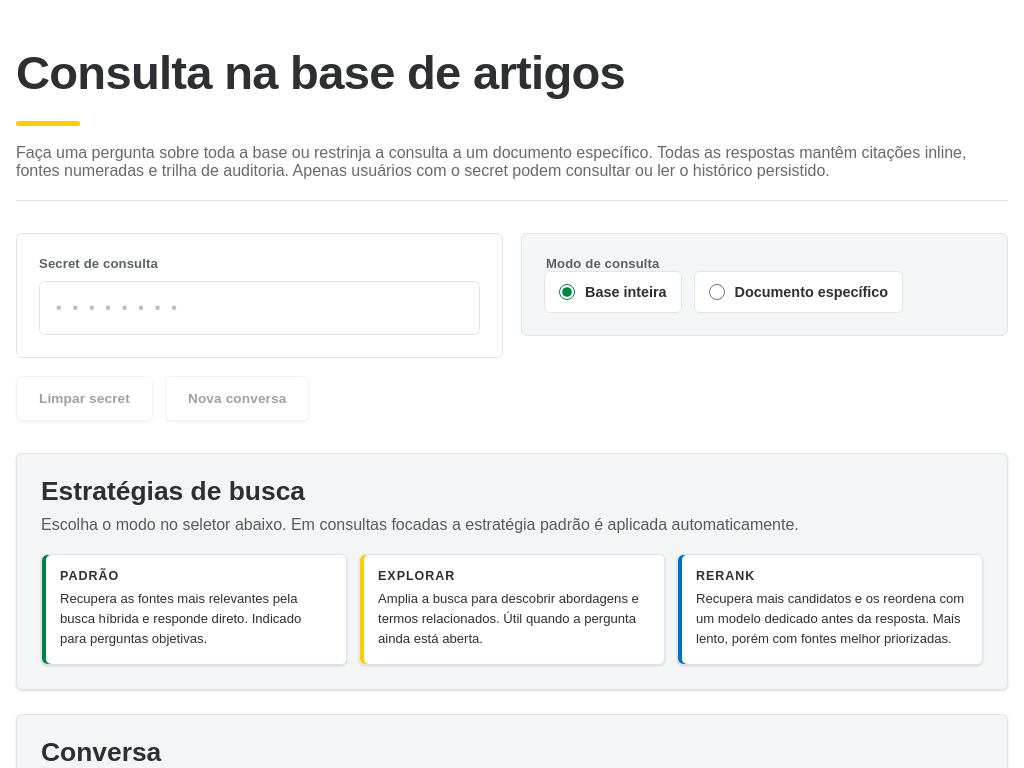
Test: /query page › renders the rerank phase copy while the rerank stream is live
The image size is (1024, 768).
Type "query-secret-value" into the password field labelled "Secret de consulta" at point(260, 308), box top-left (39, 281), bottom-right (480, 335)
(page scrolled)
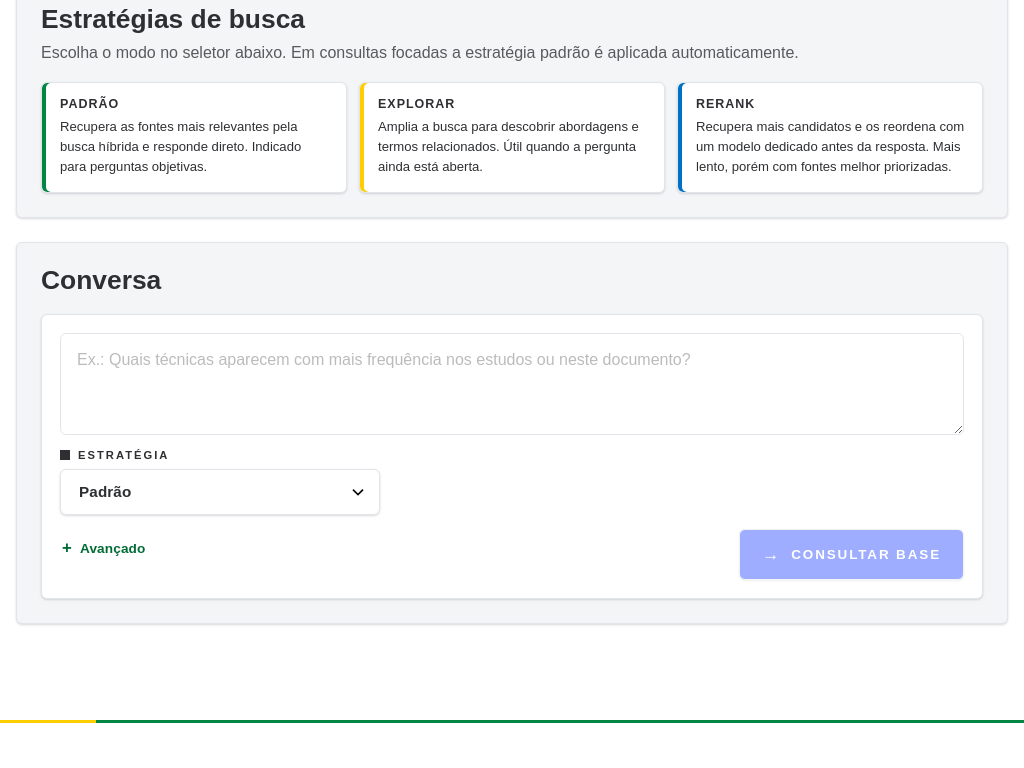
Replace the text in the text box named "pergunta" with "Quais tecnicas aparecem com mais frequencia?" at point(512, 384), box top-left (60, 333), bottom-right (964, 435)
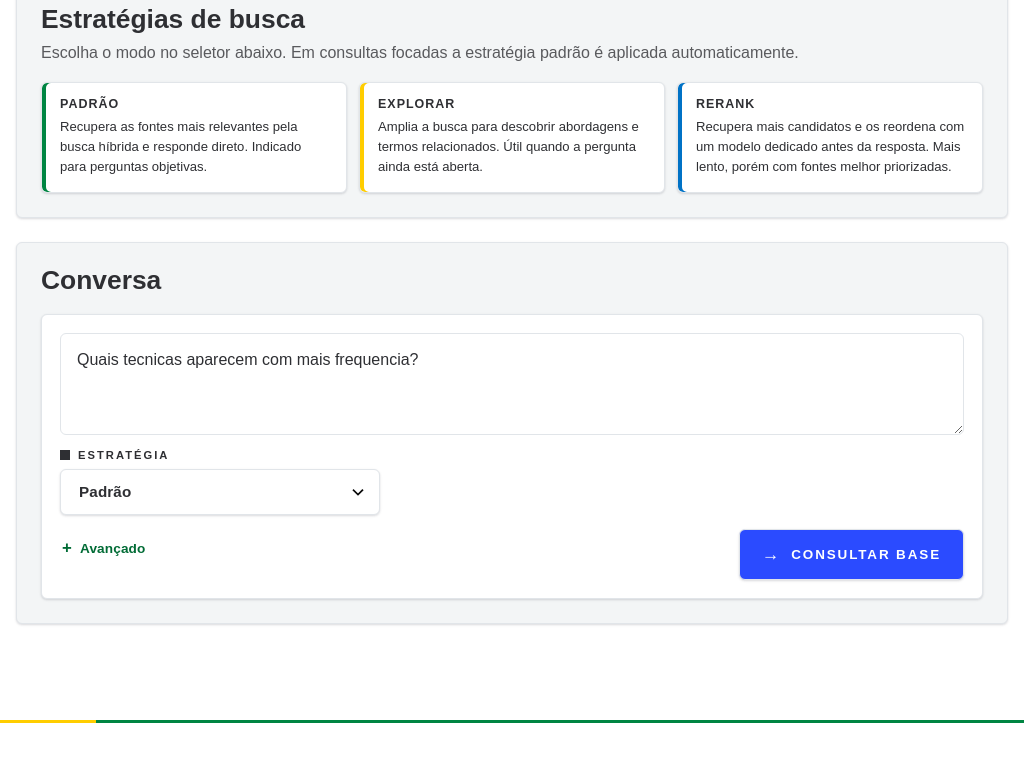
Select "Rerank" in the dropdown labelled "Estratégia" at point(220, 492), box top-left (60, 469), bottom-right (380, 515)
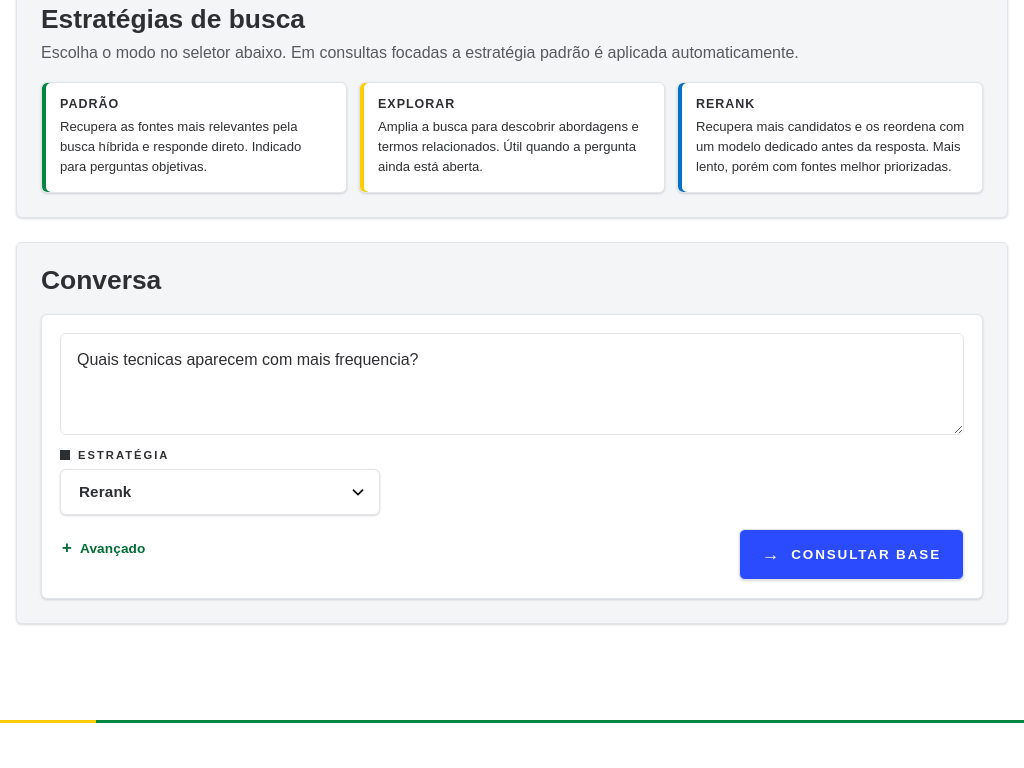
Click the button "Consultar base" at point(851, 555), box top-left (739, 529), bottom-right (964, 580)
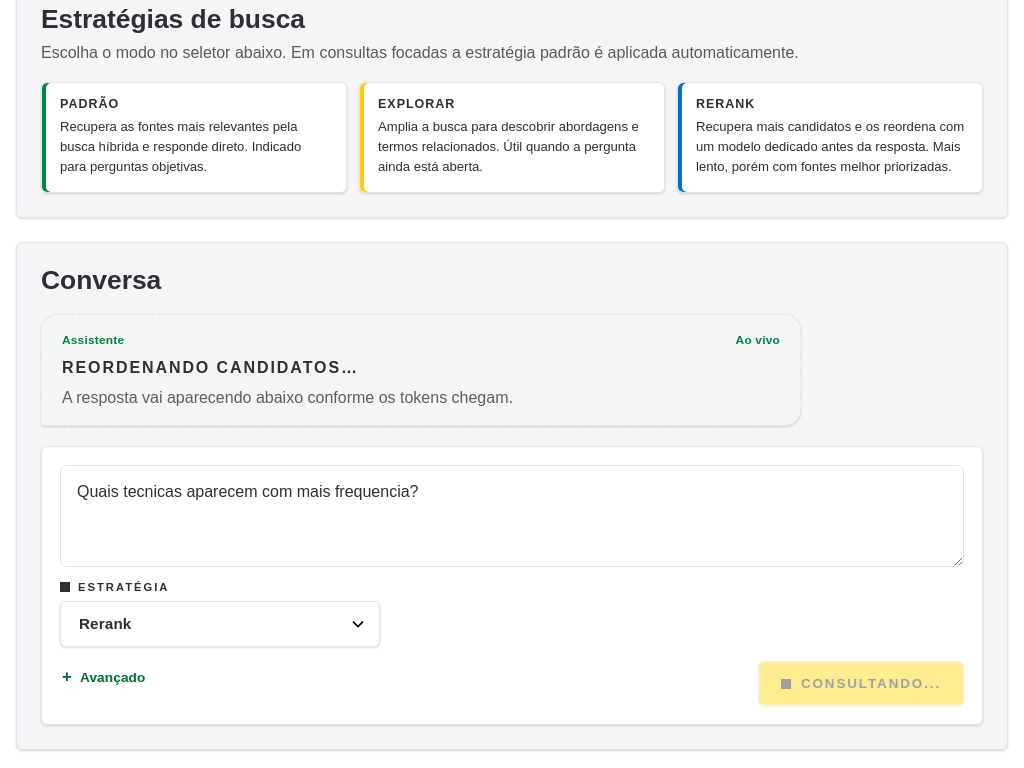
Expected: the text "Reordenando candidatos…" is shown, top-left (62, 359), bottom-right (359, 376)
